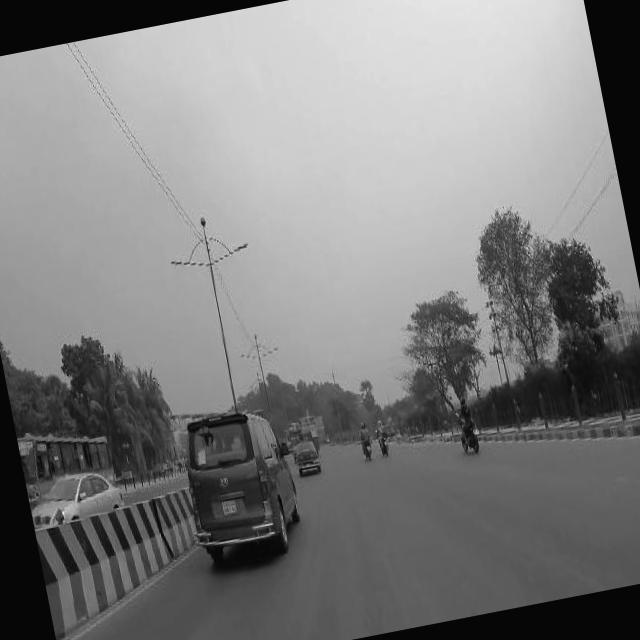bus: (18, 412, 118, 498)
car: (28, 464, 130, 538), (293, 436, 324, 476)
motorcycle: (452, 390, 484, 455), (373, 414, 392, 458), (357, 419, 376, 462)
truck: (173, 398, 309, 568)
